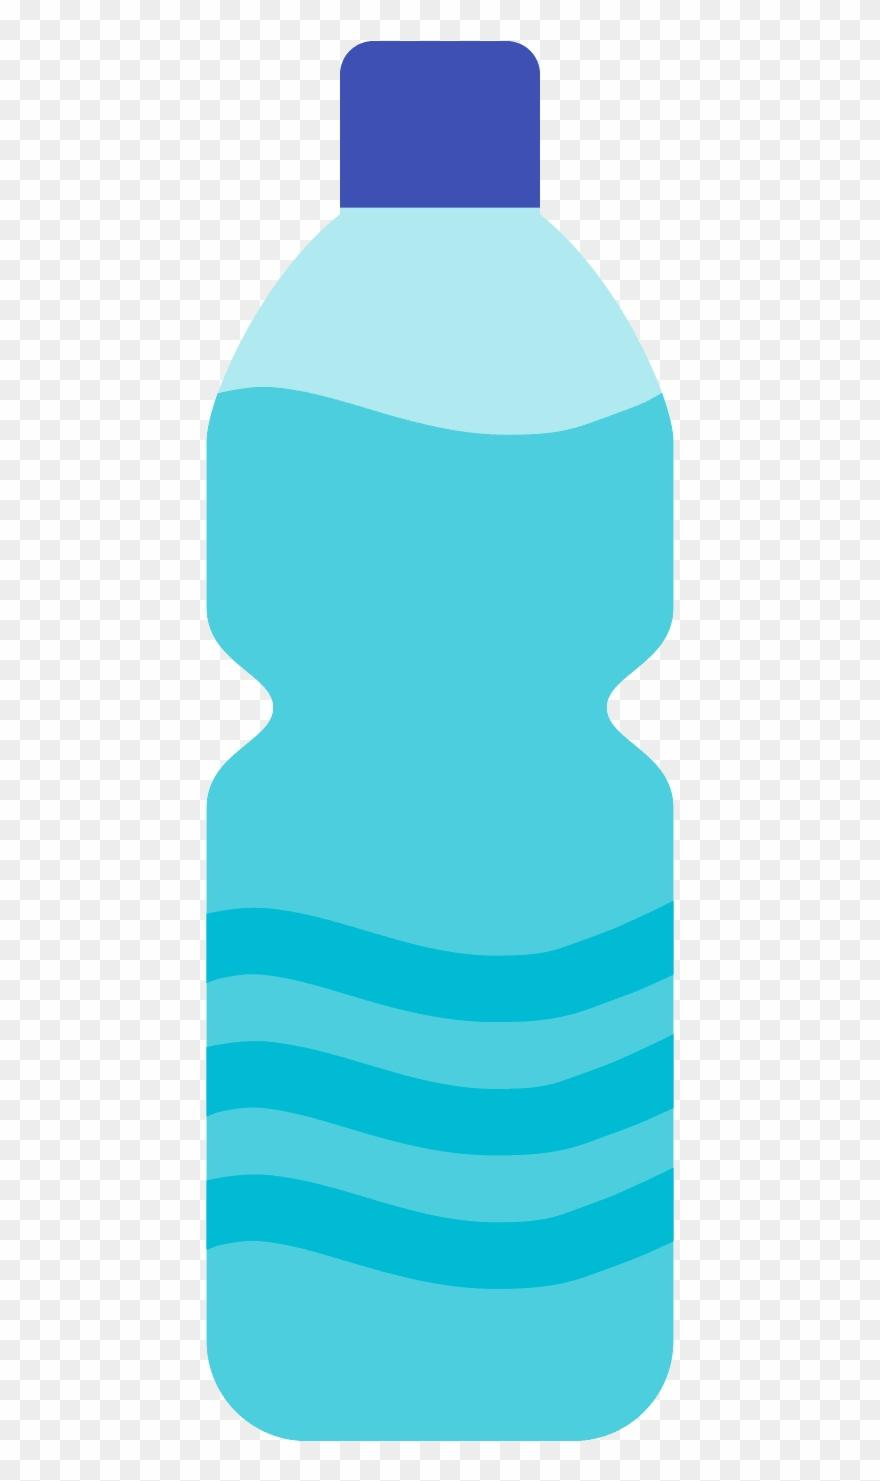bottle: (193, 0, 708, 795)
